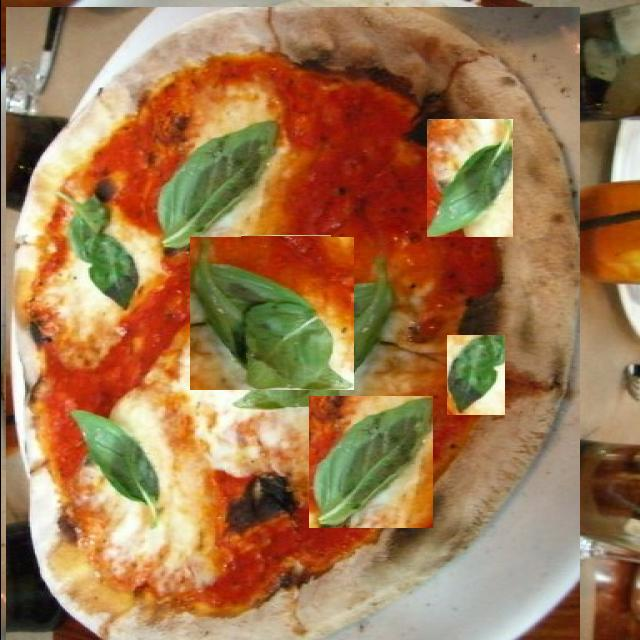basil: (189, 238, 353, 392), (308, 396, 432, 528), (426, 119, 512, 237), (240, 235, 330, 334), (446, 335, 504, 415), (475, 386, 527, 459)
pizza: (5, 7, 579, 640)
